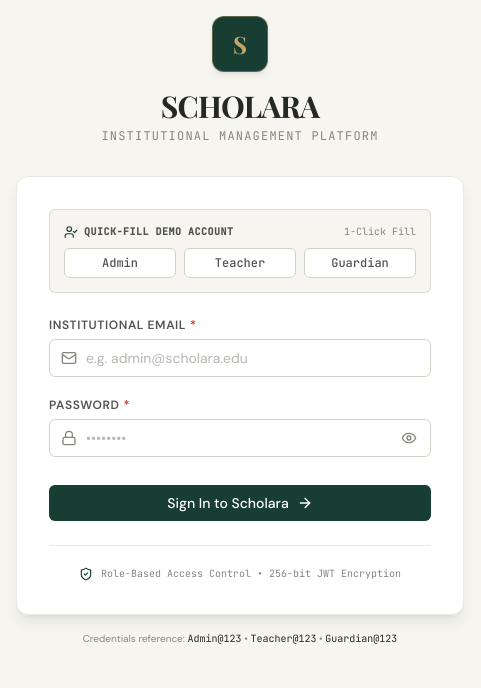
Test: SCHOLARA Authentication & RBAC Frontend Suite › Login Page › shows validation error when submitting with empty credentials
The image size is (481, 688).
Click the button "Sign In to Scholara": (240, 503) [49,485,431,521]
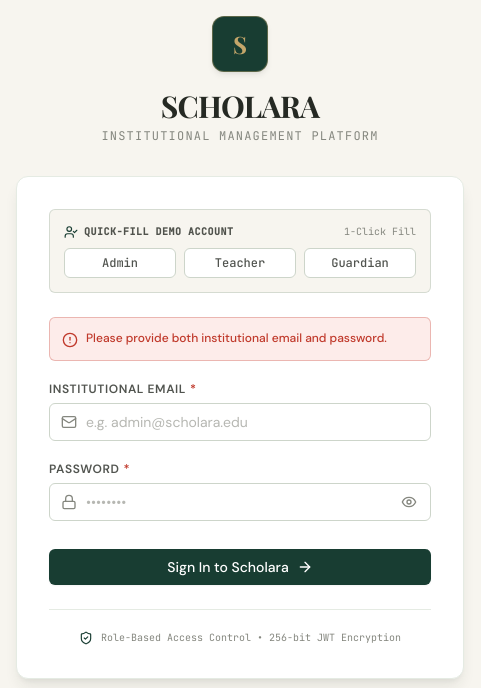
Result: the message shows "Please provide both institutional email and password" at [86,330,387,346]
